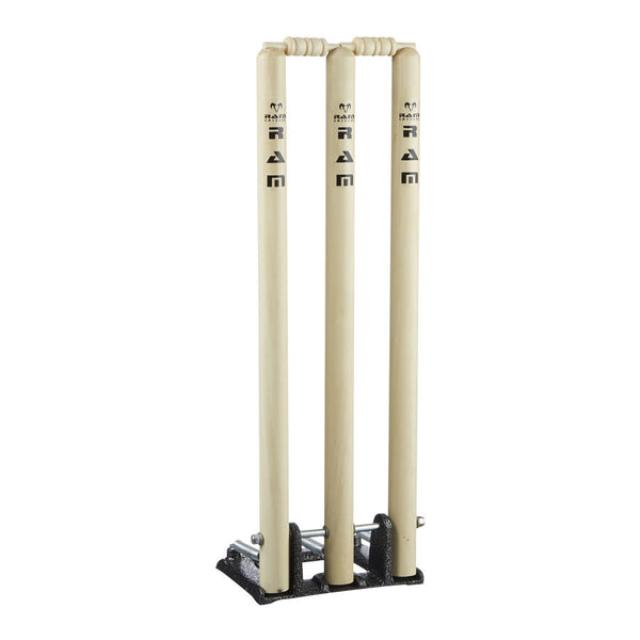stump: (258, 31, 421, 573)
